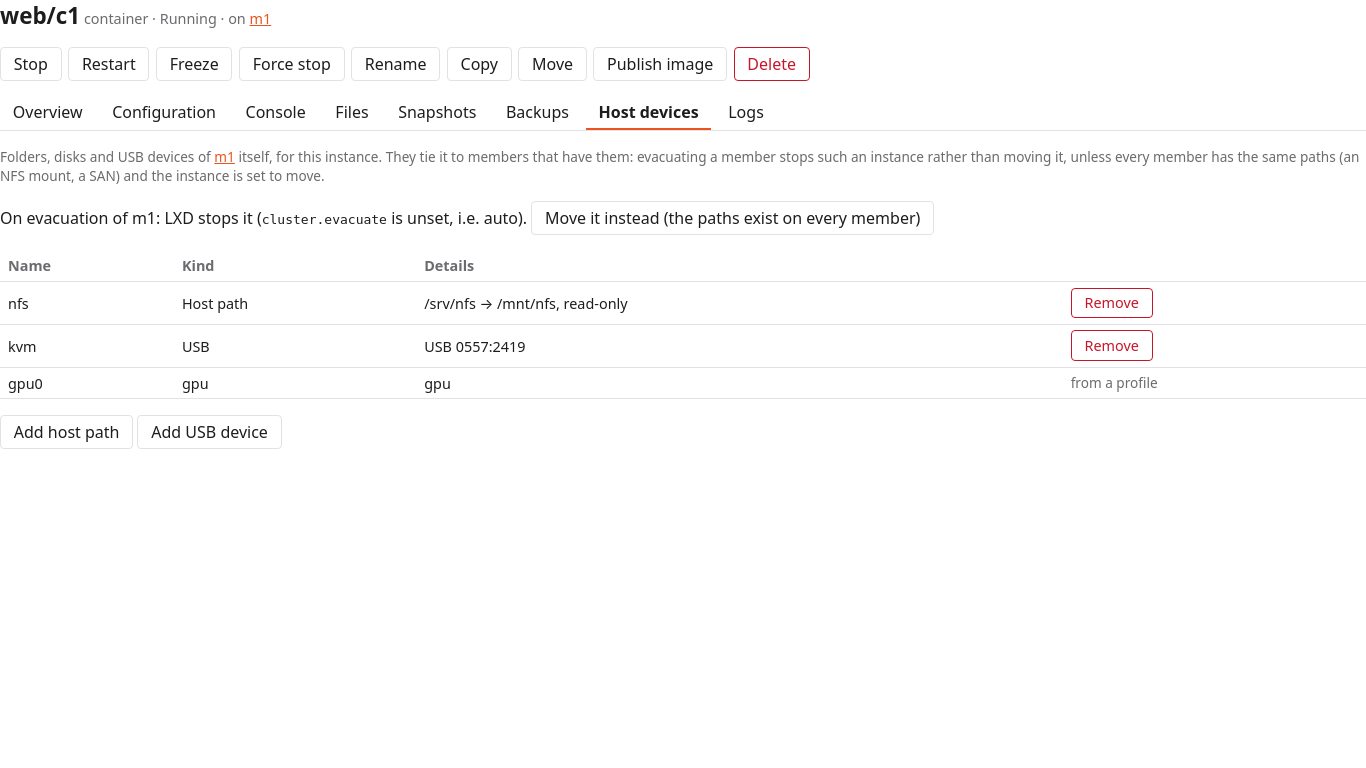
Test: finding a host path (D87) › offers the member's mounted filesystems
The image size is (1366, 768).
Click the button "Add host path" at {"x": 67, "y": 432}, box [0,415,133,449]
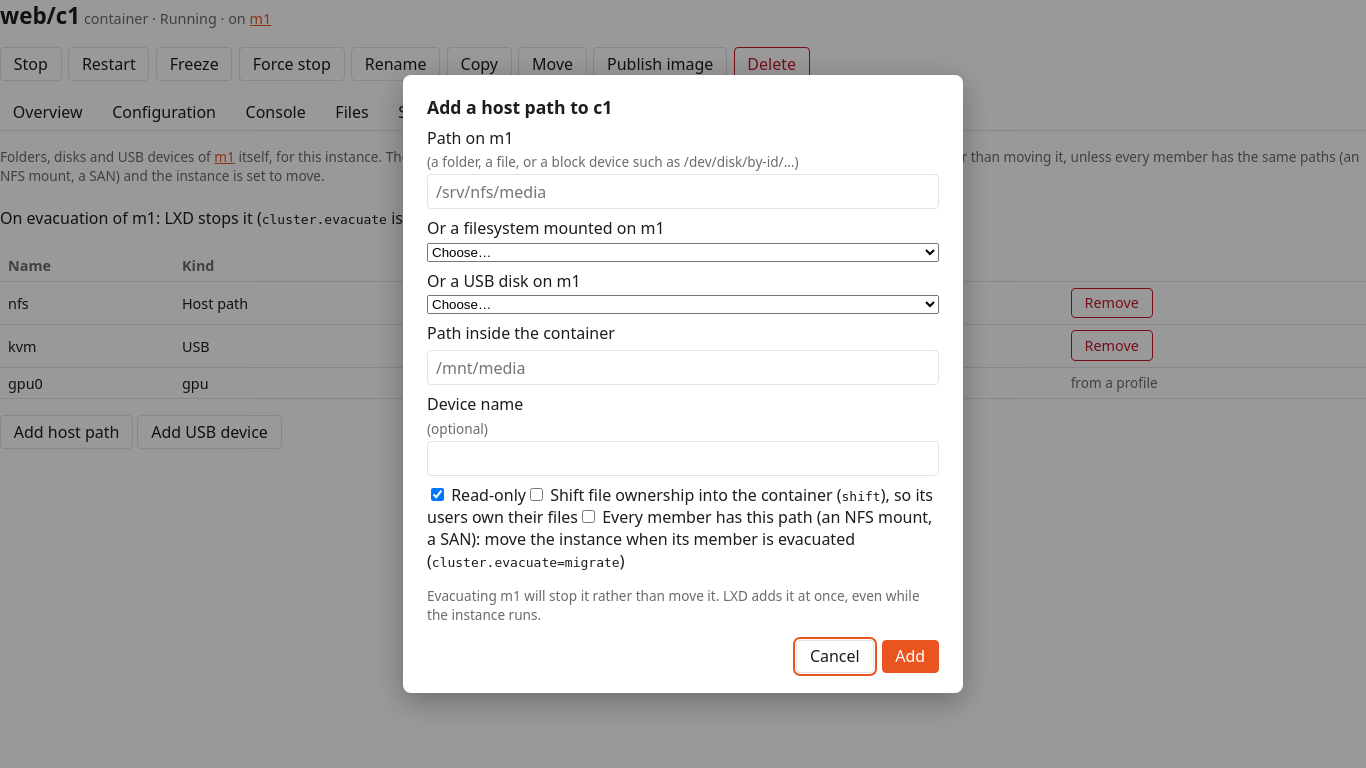
Select "/srv/nfs (nfs4, 4.0 TiB)" in the dropdown labelled "Or a filesystem mounted on m1" at {"x": 683, "y": 252}, box [427,243,939,262]
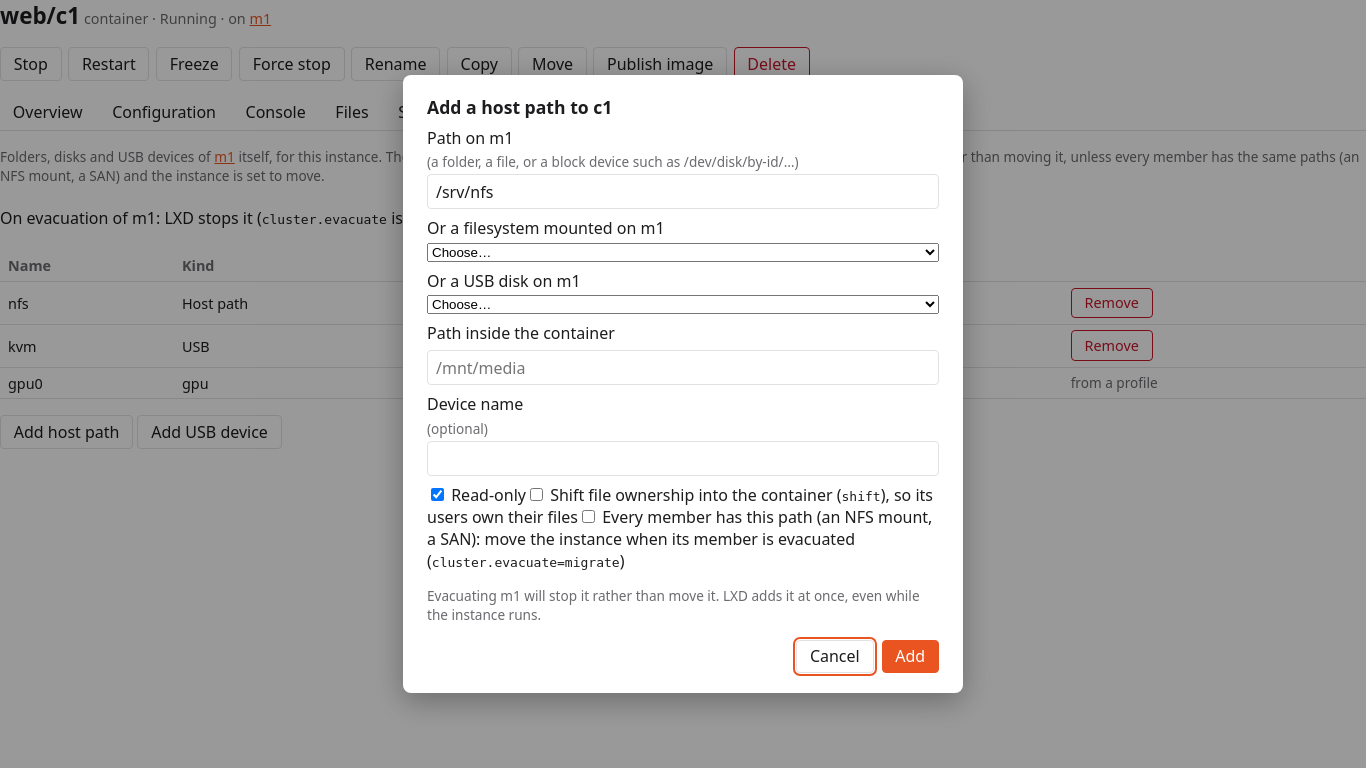
Expected: the field labelled "Path on m1" holds "/srv/nfs", [427,174,939,210]
